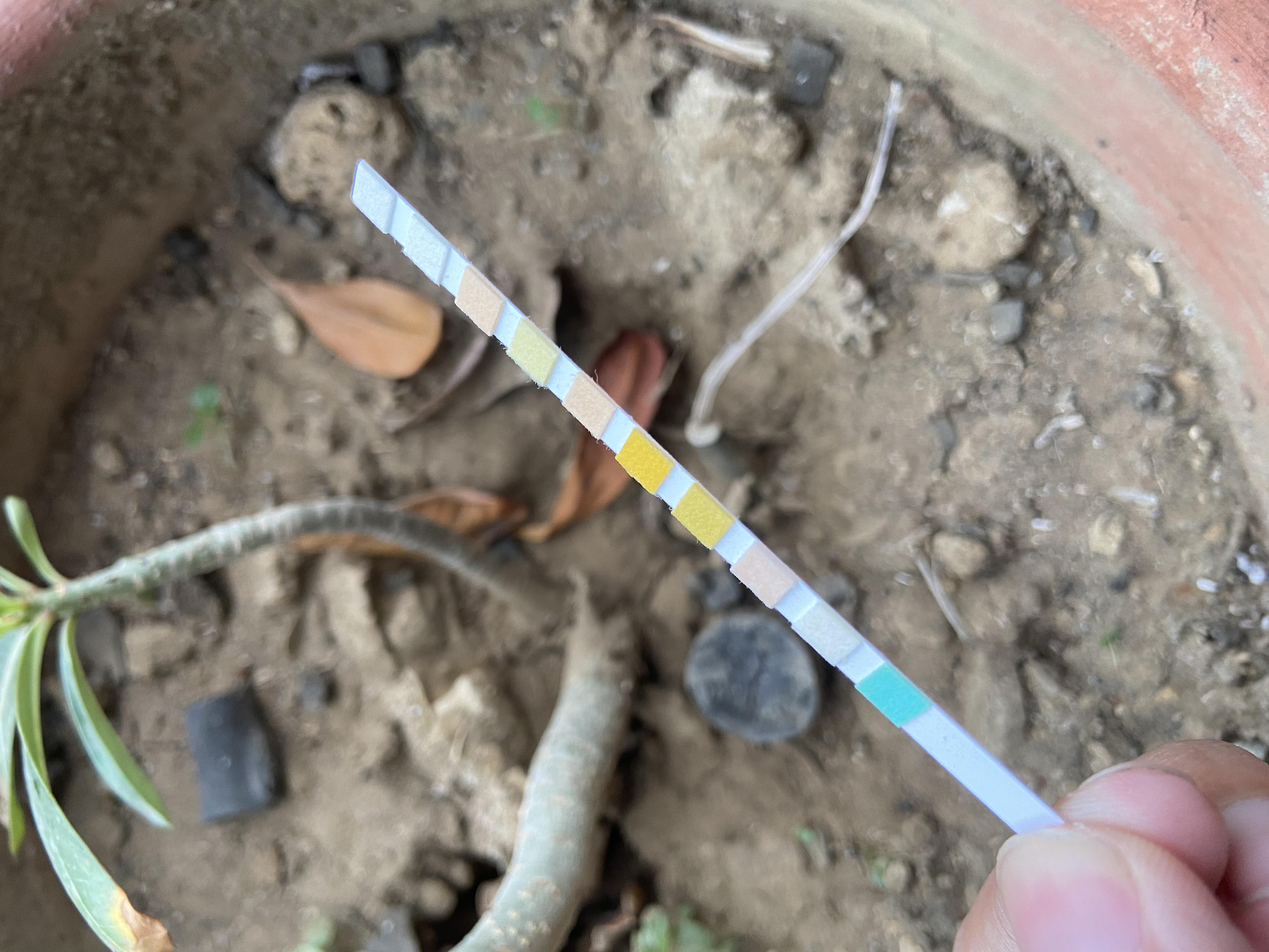Bilirubin: (811, 617, 839, 645)
Blood: (632, 446, 654, 477)
Glucose: (877, 680, 907, 708)
Ketone: (750, 563, 776, 589)
Leukocytes: (357, 184, 387, 207)
Nitrite: (413, 235, 434, 262)
Protein: (520, 337, 540, 367)
SpGravity: (688, 502, 714, 530)
Urobilinogen: (467, 284, 487, 315)
pH: (576, 389, 597, 417)
strip: (352, 157, 1045, 830)
